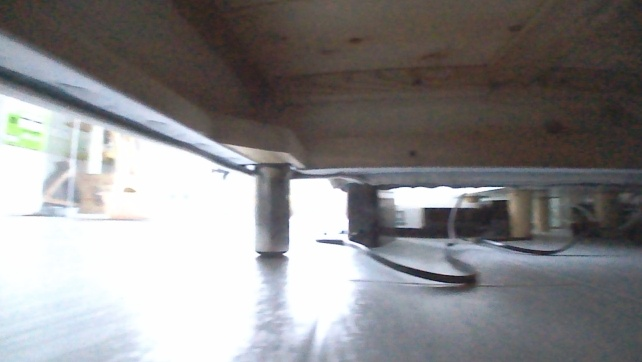wire: (313, 210, 641, 285), (444, 192, 471, 242)
